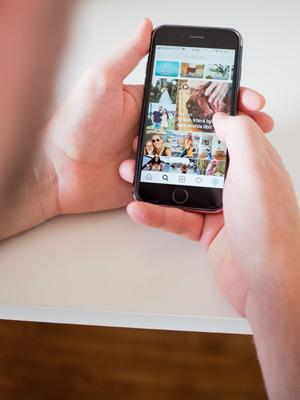cell-phone: (128, 23, 249, 214)
